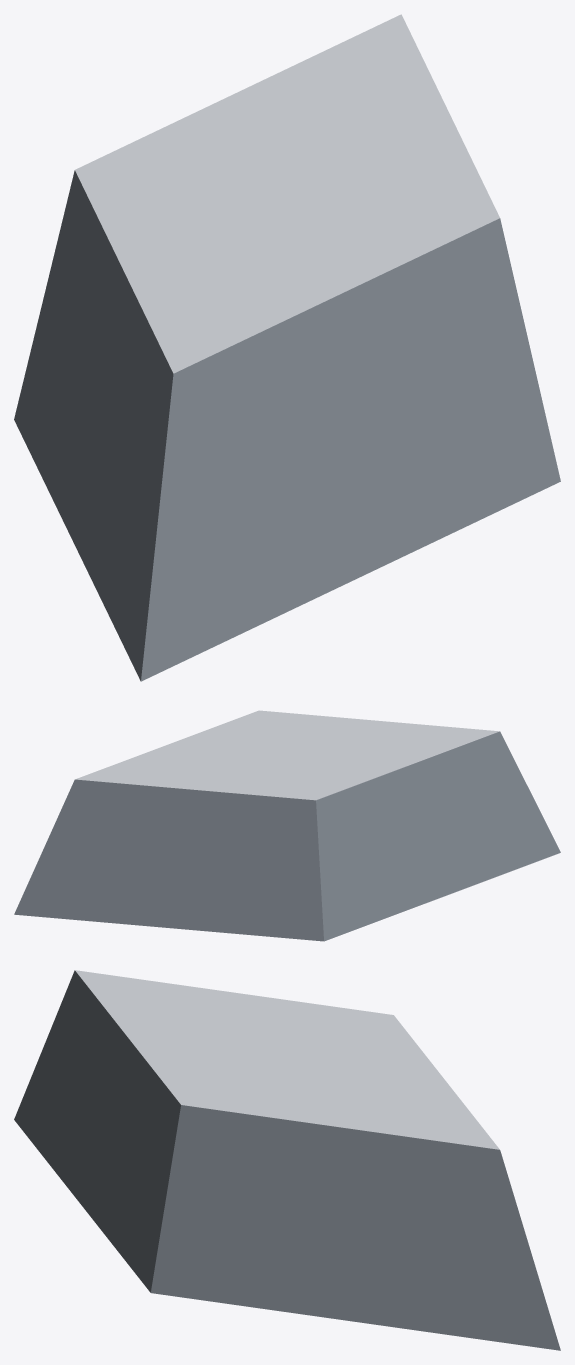
File: IronBar.fbx
3 views of the same model, one above another, from view 1: azimuth 30°, elevation 25°; view 2: azimuth 150°, elevation 25°; view 3: azimuth 270°, elevation 25° (orthographic). The views are drawn at different scales.
Visible parts, largest first — view 1: IronBar; view 2: IronBar; view 3: IronBar.
Part boxes in pixels (<box>): IronBar: <box>14,14,560,681</box>; IronBar: <box>14,710,560,941</box>; IronBar: <box>14,970,560,1350</box>.
Bounding box in the file's own units: 1.27 × 0.45 × 1.27.
1 material, 1 textured.
